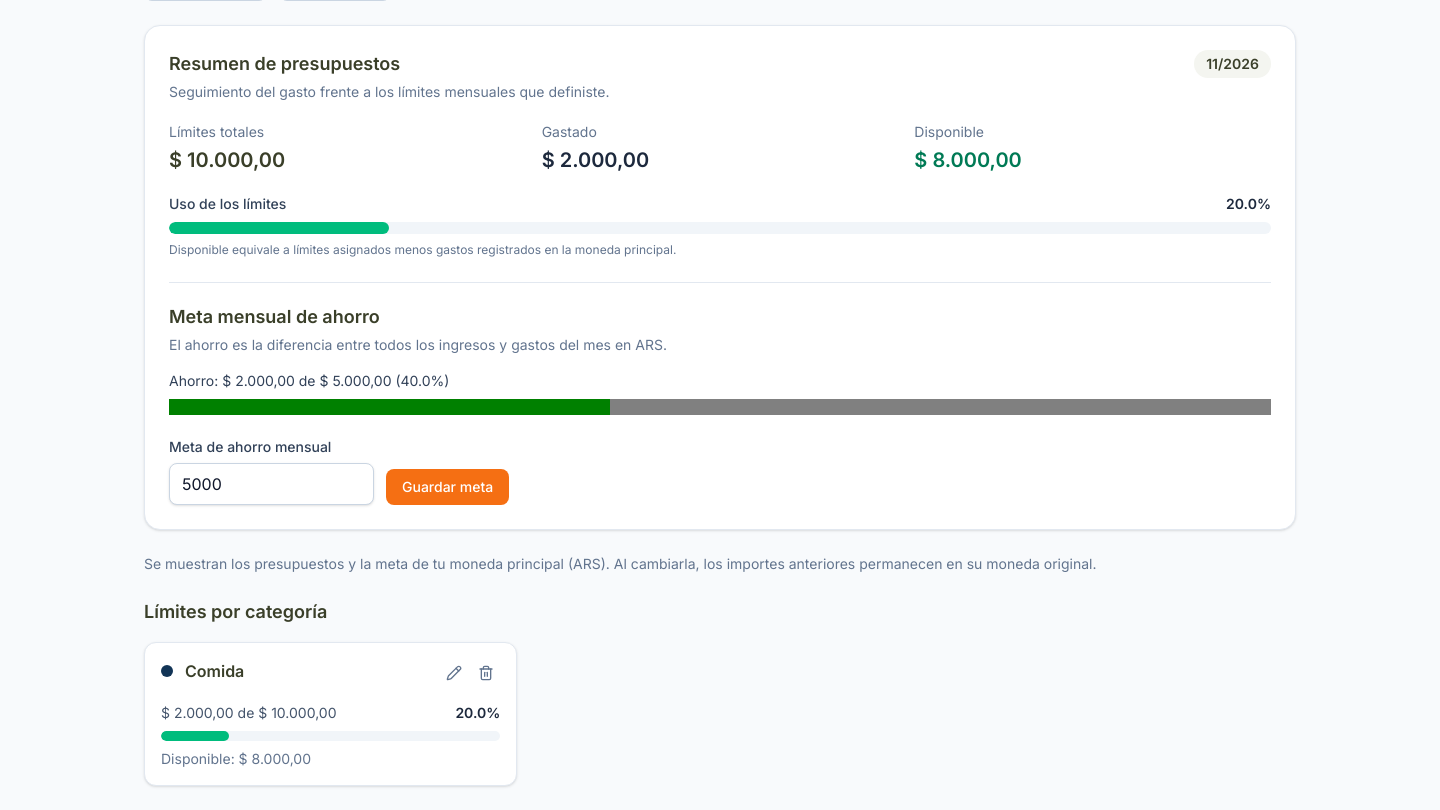
Scenario: Presupuestos › confirma el borrado aunque falle la recarga del resumen
(page scrolled)
Click the button named "Eliminar presupuesto de Comida". click: (486, 673)
box: [472,659,500,687]
(page scrolled)
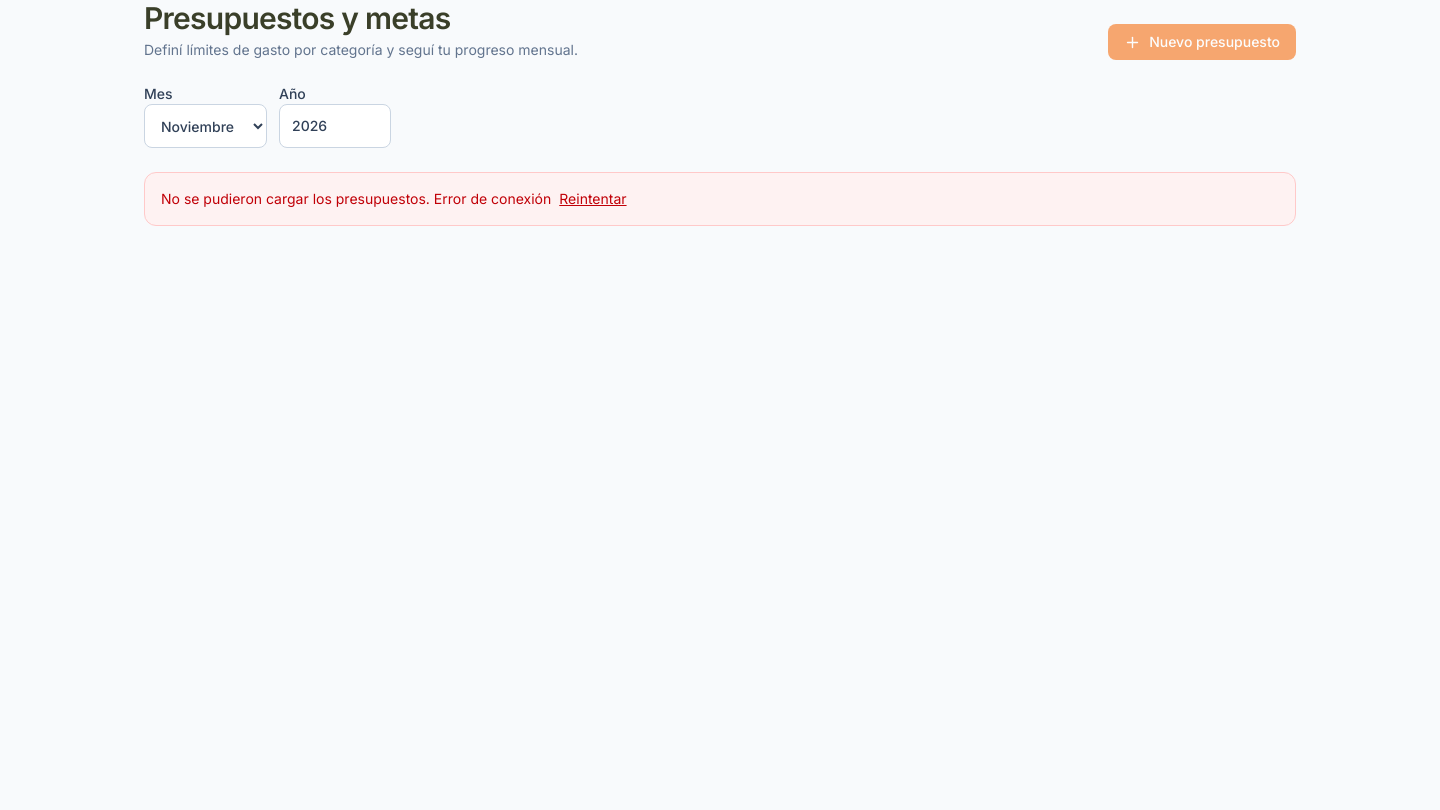
expect the message shows "Error de conexión": met, box [434,190,551,207]
Click the button "Reintentar". click: (593, 199)
box: [559,189,627,209]
(page scrolled)
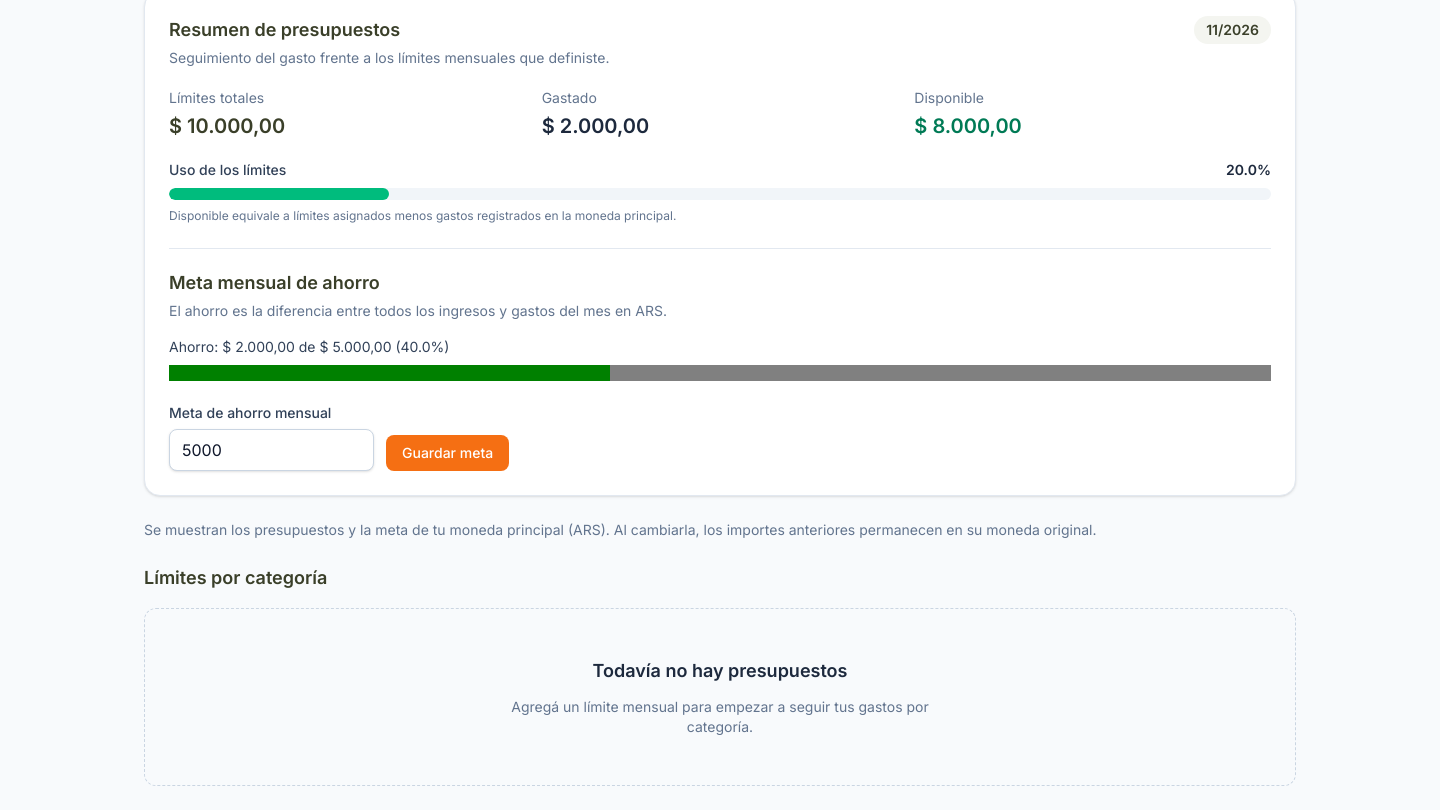
expect the heading "Todavía no hay presupuestos" is shown: met, box [592,657,847,685]
